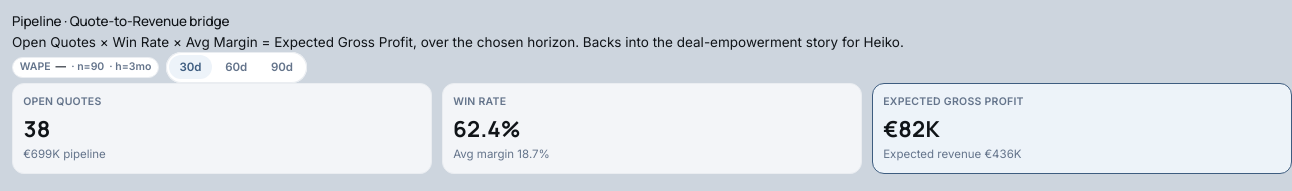
Test: QuoteToRevenueBridge (Phase 6) › switching to 90d recomputes the numbers
Click the button with test id "q2r-horizon-90" at (282, 67), box [261,55,303,79]
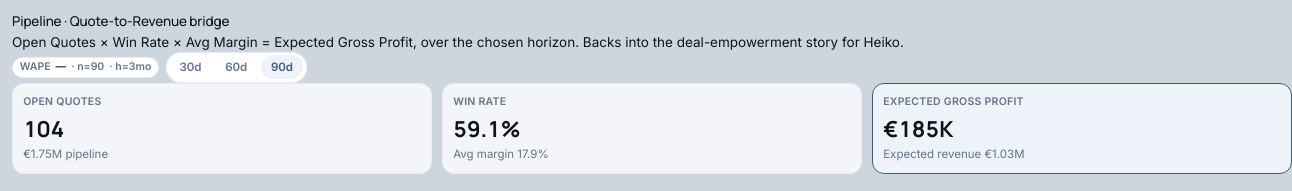
Now the text "104" is shown, box [23,114,64,144]
Now the text "59.1%" is shown, box [453,114,521,144]
Now the text "€185K" is shown, box [883,114,953,144]
